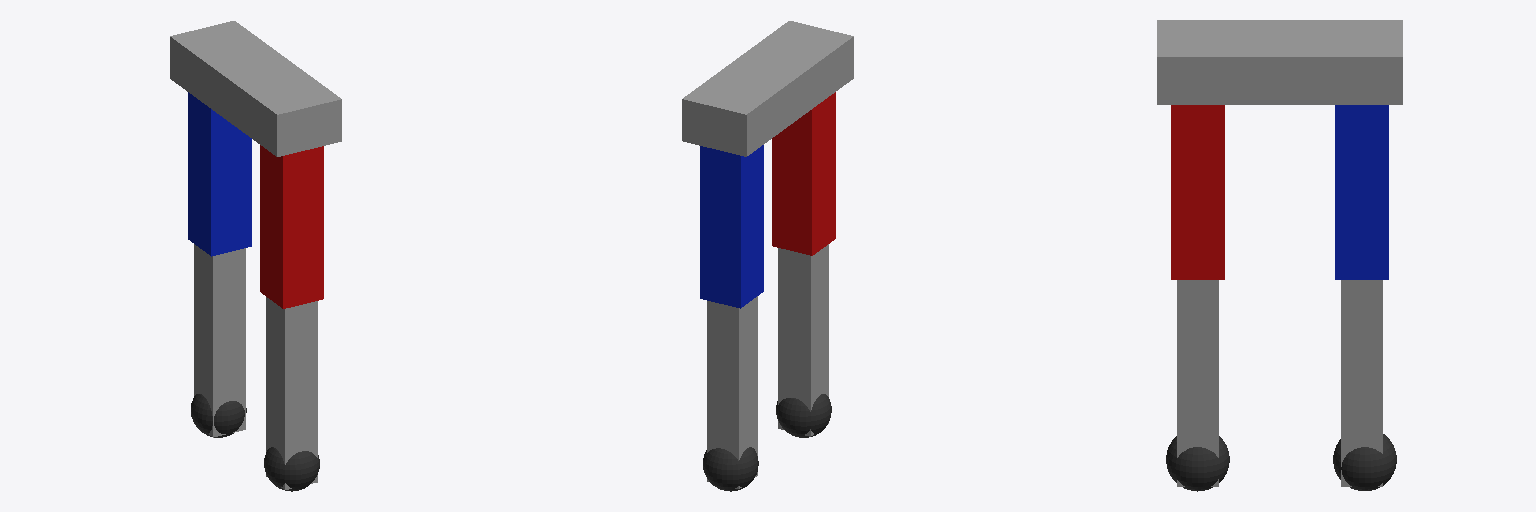
robot.urdf — biped_billie_linkage_pinned:
<?xml version="1.0"?>
<robot name="biped_billie_linkage_pinned">

  <!-- Simplified linkage model.
       Root/reference frame: LeftFoot.
       Kinematic chain:
       LeftFoot -> LeftShin -> LeftThigh -> Torso
                -> RightThigh -> RightShin -> RightFoot
  -->

  <material name="dark_gray"><color rgba="0.25 0.25 0.25 1"/></material>
  <material name="light_gray"><color rgba="0.65 0.65 0.65 1"/></material>
  <material name="red"><color rgba="0.80 0.10 0.10 1"/></material>
  <material name="green"><color rgba="0.10 0.65 0.10 1"/></material>
  <material name="blue"><color rgba="0.10 0.20 0.80 1"/></material>

  <!-- Root link: fixed by loading this URDF as a fixed-base model. -->
  <link name="LeftFoot">
    <inertial>
      <origin xyz="0 0 0.019" rpy="0 0 0"/>
      <mass value="0.0287309120146299"/>
      <inertia ixx="4.148743695e-06" ixy="0" ixz="0"
               iyy="4.148743695e-06" iyz="0" izz="4.148743695e-06"/>
    </inertial>
    <visual>
      <origin xyz="0 0 0.019" rpy="0 0 0"/>
      <geometry><sphere radius="0.03"/></geometry>
      <material name="dark_gray"/>
    </visual>
    <collision>
      <origin xyz="0 0 0" rpy="0 0 0"/>
      <geometry><sphere radius="0.03"/></geometry>
    </collision>
  </link>

  <!-- Ankle-to-knee distance: 0.2169998 m. -->
  <link name="LeftShin">
    <inertial>
      <origin xyz="0 0 0.1084999" rpy="0 0 0"/>
      <mass value="0.0432446610161898"/>
      <inertia ixx="1.7071e-04" ixy="0" ixz="0"
               iyy="1.7071e-04" iyz="0" izz="1.8019e-05"/>
    </inertial>
    <visual>
      <origin xyz="0 0 0.1084999" rpy="0 0 0"/>
      <geometry><box size="0.04 0.04 0.2169998"/></geometry>
      <material name="light_gray"/>
    </visual>
    <collision>
      <origin xyz="0 0 0.1084999" rpy="0 0 0"/>
      <geometry><box size="0.04 0.04 0.2169998"/></geometry>
    </collision>
  </link>

  <joint name="LeftAnkle" type="revolute">
    <origin xyz="0 0 0" rpy="0 0 0"/>
    <parent link="LeftFoot"/>
    <child link="LeftShin"/>
    <axis xyz="0 -1 0"/>
    <limit lower="-2.0" upper="2.0" effort="12" velocity="31"/>
  </joint>

  <!-- Knee-to-hip distance: 0.188 m. -->
  <link name="LeftThigh">
    <inertial>
      <origin xyz="0 0 0.094" rpy="0 0 0"/>
      <mass value="0.156796809757236"/>
      <inertia ixx="4.8225e-04" ixy="0" ixz="0"
               iyy="4.8225e-04" iyz="0" izz="6.5332e-05"/>
    </inertial>
    <visual>
      <origin xyz="0 0 0.094" rpy="0 0 0"/>
      <geometry><box size="0.05 0.05 0.188"/></geometry>
      <material name="red"/>
    </visual>
    <collision>
      <origin xyz="0 0 0.094" rpy="0 0 0"/>
      <geometry><box size="0.05 0.05 0.188"/></geometry>
    </collision>
  </link>

  <joint name="LeftKnee" type="revolute">
    <origin xyz="0 0 0.2169998" rpy="0 0 0"/>
    <parent link="LeftShin"/>
    <child link="LeftThigh"/>
    <axis xyz="0 -1 0"/>
    <limit lower="-2.6" upper="0" effort="12" velocity="31"/>
  </joint>

  <!-- Hip spacing: 0.154 m in the y direction. -->
  <link name="Torso">
    <inertial>
      <origin xyz="0 0.077 0.10" rpy="0 0 0"/>
      <mass value="0.336117564776658"/>
      <inertia ixx="1.8547e-03" ixy="0" ixz="0"
               iyy="1.1484e-03" iyz="0" izz="8.5638e-04"/>
    </inertial>
    <visual>
      <origin xyz="0 0.077 0.025" rpy="0 0 0"/>
      <geometry><box size="0.08 0.230 0.05"/></geometry>
      <material name="light_gray"/>
    </visual>
    <collision>
      <origin xyz="0 0.077 0.10" rpy="0 0 0"/>
      <geometry><box size="0.08 0.154 0.05"/></geometry>
    </collision>
  </link>

  <joint name="LeftHip" type="revolute">
    <origin xyz="0 0 0.188" rpy="0 0 0"/>
    <parent link="LeftThigh"/>
    <child link="Torso"/>
    <axis xyz="0 -1 0"/>
    <limit lower="-1.5" upper="1.5" effort="12" velocity="31"/>
  </joint>

  <link name="RightThigh">
    <inertial>
      <origin xyz="0 0 -0.094" rpy="0 0 0"/>
      <mass value="0.156796809755688"/>
      <inertia ixx="4.8225e-04" ixy="0" ixz="0"
               iyy="4.8225e-04" iyz="0" izz="6.5332e-05"/>
    </inertial>
    <visual>
      <origin xyz="0 0 -0.094" rpy="0 0 0"/>
      <geometry><box size="0.05 0.05 0.188"/></geometry>
      <material name="blue"/>
    </visual>
    <collision>
      <origin xyz="0 0 -0.094" rpy="0 0 0"/>
      <geometry><box size="0.05 0.05 0.188"/></geometry>
    </collision>
  </link>

  <joint name="RightHip" type="revolute">
    <origin xyz="0 0.154 0" rpy="0 0 0"/>
    <parent link="Torso"/>
    <child link="RightThigh"/>
    <axis xyz="0 -1 0"/>
    <limit lower="-1.5" upper="1.5" effort="12" velocity="31"/>
  </joint>

  <link name="RightShin">
    <inertial>
      <origin xyz="0 0 -0.1084999" rpy="0 0 0"/>
      <mass value="0.0432446610161898"/>
      <inertia ixx="1.7071e-04" ixy="0" ixz="0"
               iyy="1.7071e-04" iyz="0" izz="1.8019e-05"/>
    </inertial>
    <visual>
      <origin xyz="0 0 -0.1084999" rpy="0 0 0"/>
      <geometry><box size="0.04 0.04 0.2169998"/></geometry>
      <material name="light_gray"/>
    </visual>
    <collision>
      <origin xyz="0 0 -0.1084999" rpy="0 0 0"/>
      <geometry><box size="0.04 0.04 0.2169998"/></geometry>
    </collision>
  </link>

  <joint name="RightKnee" type="revolute">
    <origin xyz="0 0 -0.188" rpy="0 0 0"/>
    <parent link="RightThigh"/>
    <child link="RightShin"/>
    <axis xyz="0 -1 0"/>
    <limit lower="0" upper="2.6" effort="12" velocity="31"/>
  </joint>

  <link name="RightFoot">
    <inertial>
      <origin xyz="0 0 0.019" rpy="0 0 0"/>
      <mass value="0.0287309120146299"/>
      <inertia ixx="4.148743695e-06" ixy="0" ixz="0"
               iyy="4.148743695e-06" iyz="0" izz="4.148743695e-06"/>
    </inertial>
    <visual>
      <origin xyz="0 0.019 0.019" rpy="0 0 0"/>
      <geometry><sphere radius="0.03"/>
      </geometry><material name="dark_gray"/>
    </visual>
    <collision>
      <origin xyz="0 0 0" rpy="0 0 0"/>
      <geometry><sphere radius="0.03"/></geometry>
    </collision>
  </link>

  <joint name="RightAnkle" type="fixed">
    <origin xyz="0 -0.01625 -0.2169998" rpy="0 0 0"/>
    <parent link="RightShin"/>
    <child link="RightFoot"/>
  </joint>

</robot>

--- Render facts (derived) ---
3 views of the same robot in one strip: view 1: azimuth 30°, elevation 25°; view 2: azimuth 150°, elevation 25°; view 3: azimuth 270°, elevation 25° (orthographic).
Model biped_billie_linkage_pinned with 7 links and 6 joints (5 revolute, 1 fixed), rooted at LeftFoot, posed every joint at zero.
Links seen in each view (by area): view 1: Torso, LeftThigh, RightThigh, RightShin, LeftShin, LeftFoot, RightFoot; view 2: Torso, RightThigh, LeftThigh, LeftShin, RightShin, RightFoot, LeftFoot; view 3: Torso, LeftThigh, RightThigh, RightShin, LeftShin, LeftFoot, RightFoot.
Link boxes in pixels (x1,y1,x2,y2): Torso: (170, 21, 341, 156); LeftThigh: (260, 145, 323, 308); RightThigh: (188, 92, 251, 256); RightShin: (194, 244, 245, 437); LeftShin: (266, 297, 317, 489); LeftFoot: (264, 447, 319, 491); RightFoot: (191, 394, 246, 437); Torso: (682, 21, 853, 156); RightThigh: (700, 145, 763, 308); LeftThigh: (772, 92, 835, 255); LeftShin: (778, 244, 828, 436); RightShin: (707, 296, 757, 488); RightFoot: (703, 447, 758, 491); LeftFoot: (776, 394, 831, 437); Torso: (1157, 20, 1402, 104); LeftThigh: (1171, 105, 1224, 279); RightThigh: (1335, 105, 1388, 279); RightShin: (1341, 280, 1382, 486); LeftShin: (1177, 280, 1218, 486); LeftFoot: (1166, 436, 1229, 491); RightFoot: (1333, 434, 1396, 490).
Size in the robot's own frame: 0.08 by 0.23 by 0.466 metres.
Geometry: primitives only (box / cylinder / sphere), no mesh files.
